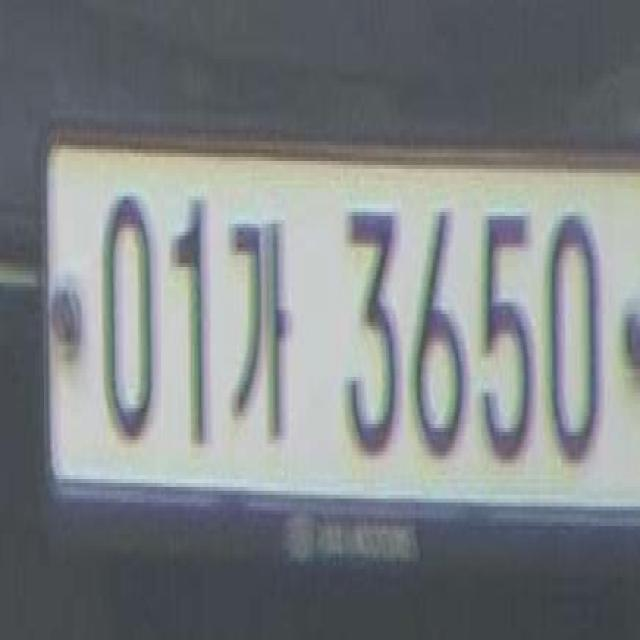illegal_plate: (39, 106, 640, 570)
